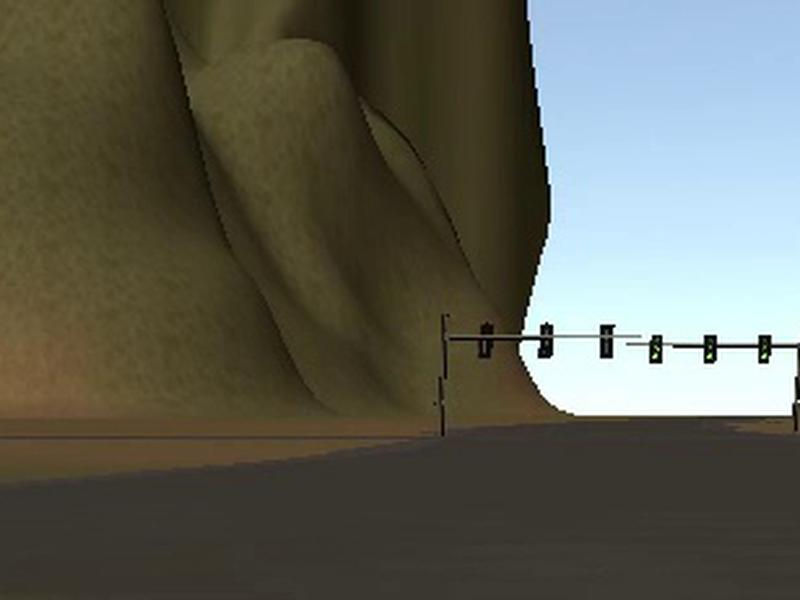Green: (649, 333, 663, 364), (703, 334, 717, 364), (758, 334, 772, 364)
